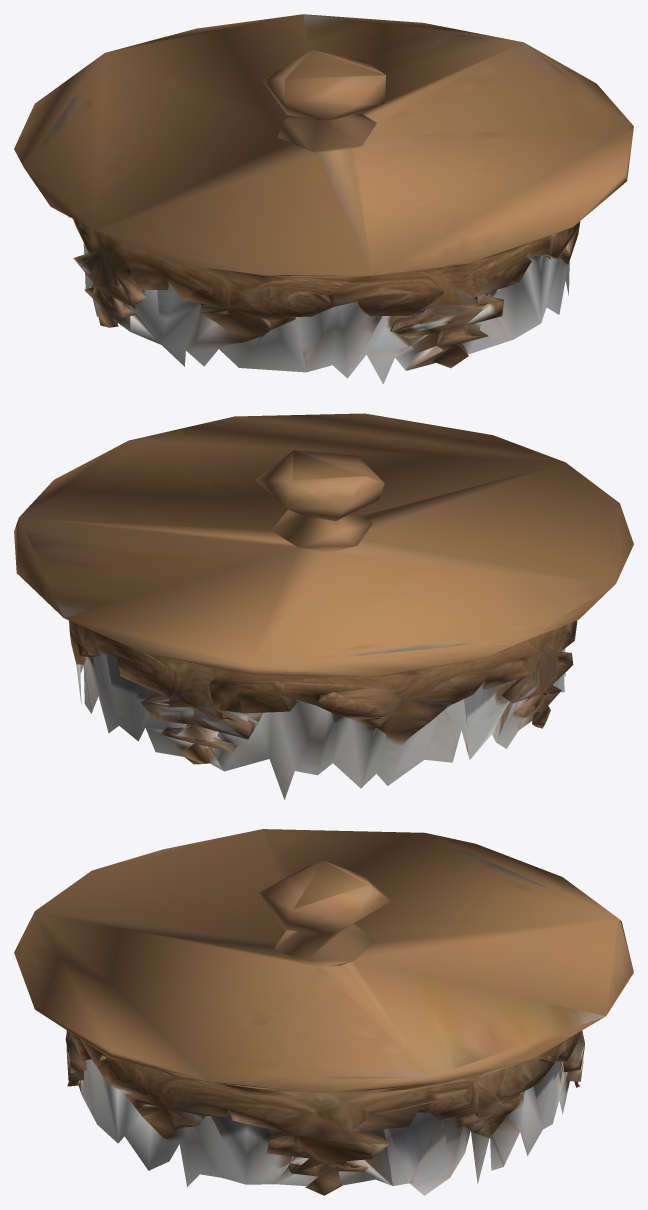
The model's file is column_cap.glb.
The picture shows the model from 3 angles, top to bottom: view 1: azimuth 30°, elevation 25°; view 2: azimuth 150°, elevation 25°; view 3: azimuth 270°, elevation 25°; orthographic projection.
Visible parts, largest first — view 1: column_cap; view 2: column_cap; view 3: column_cap.
Part boxes in pixels (<box>): column_cap: <box>14,14,633,384</box>; column_cap: <box>14,413,633,799</box>; column_cap: <box>14,829,633,1195</box>.
Bounding box in the file's own units: 1.06 × 0.4411 × 1.07.
1 material, 1 textured.
